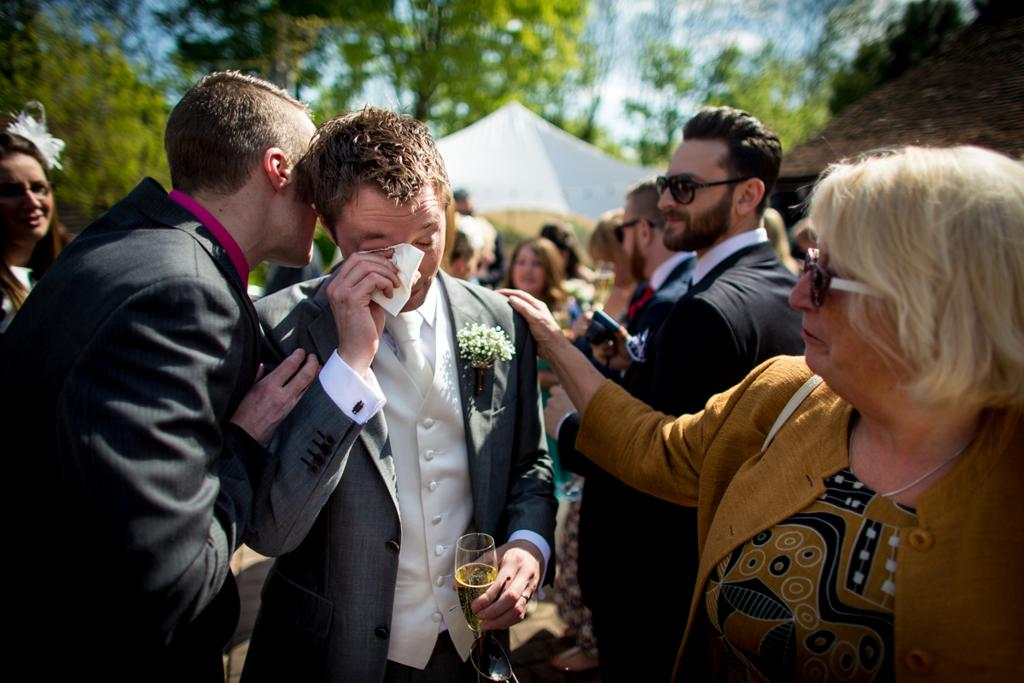face: (788, 218, 919, 376), (341, 187, 447, 309), (255, 117, 326, 260), (657, 140, 732, 248), (0, 153, 53, 238), (513, 245, 545, 291), (593, 244, 624, 287), (622, 200, 641, 267), (477, 235, 495, 272), (453, 251, 473, 280), (456, 193, 471, 213)
